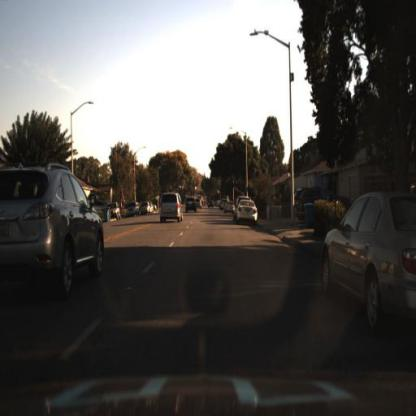car: (320, 190, 416, 341), (1, 162, 107, 294), (291, 182, 342, 224), (232, 198, 259, 227), (160, 191, 184, 223), (185, 197, 200, 217), (125, 200, 141, 218), (126, 201, 141, 219), (223, 200, 237, 217), (109, 202, 122, 220), (141, 199, 154, 217), (208, 199, 217, 208)
